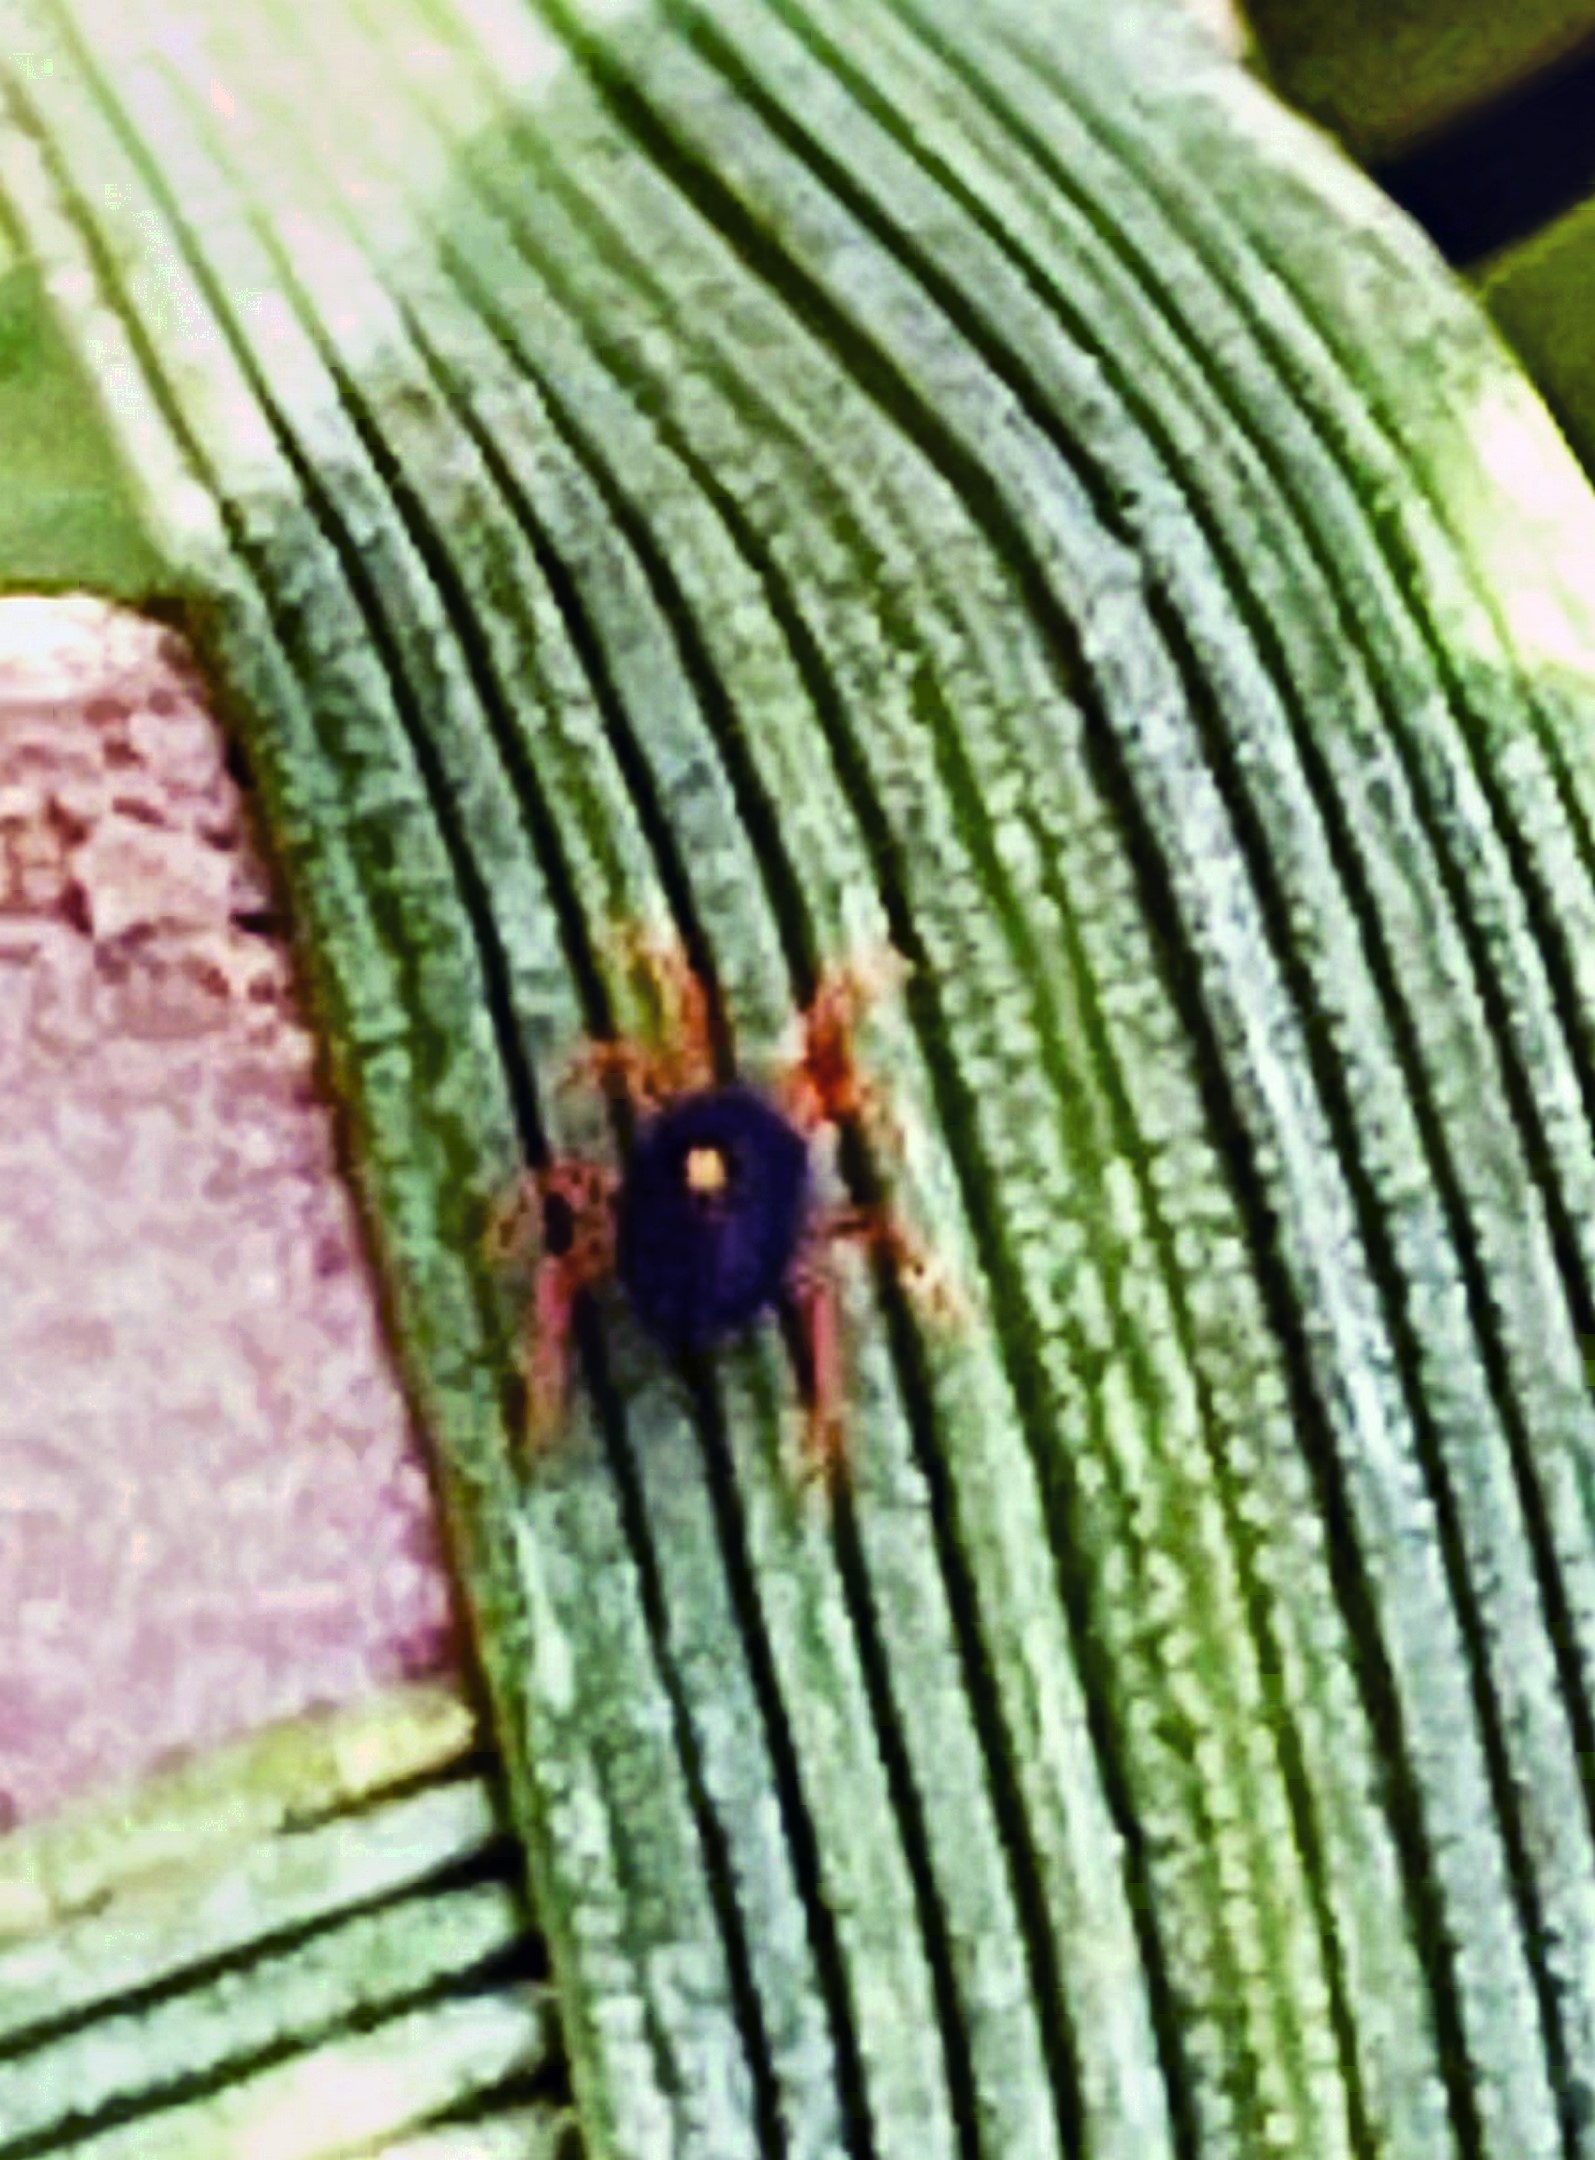Wheat Red Spider: (431, 880, 990, 1519)
